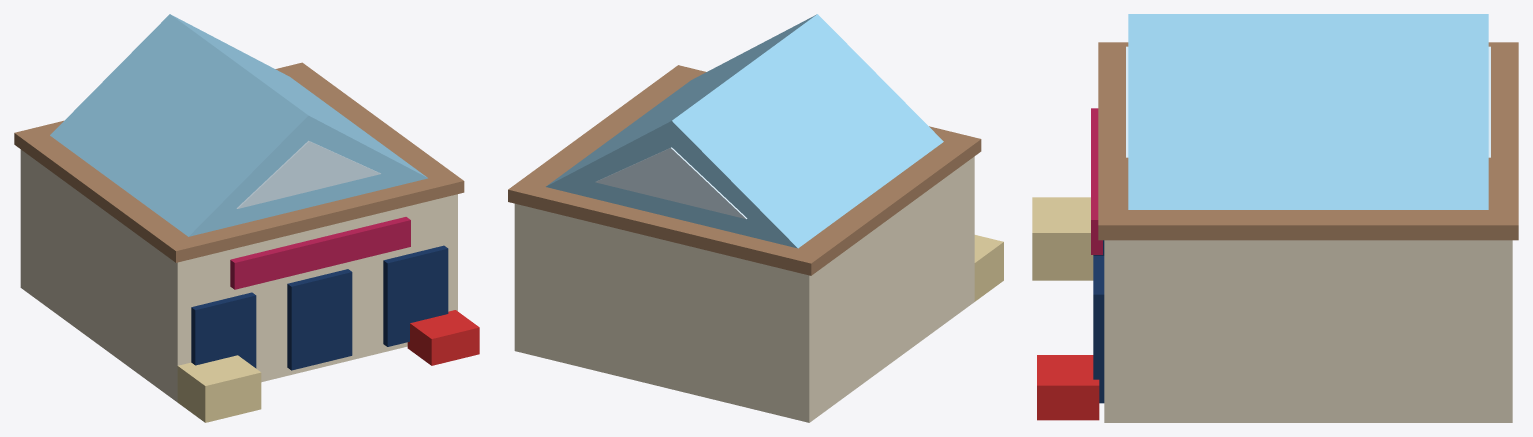
The model's file is market_1.glb.
3 views of the same model, side by side, from view 1: azimuth 30°, elevation 25°; view 2: azimuth 150°, elevation 25°; view 3: azimuth 270°, elevation 25° (orthographic). The views are drawn at different scales.
Visible parts, largest first — view 1: vidro_claro, reboco.002, madeira_clara, azul_marinho.002, rosa, bege_mercado.001, vidro_gelo.001, vermelho.001; view 2: reboco.002, vidro_claro, madeira_clara, vidro_gelo.001, bege_mercado.001; view 3: reboco.002, vidro_claro, madeira_clara, bege_mercado.001, vermelho.001, azul_marinho.002, rosa, vidro_gelo.001.
Boxes of the visible parts, box(x1,y1,x2,y2) form: vidro_claro: box(50, 14, 427, 236); reboco.002: box(20, 149, 457, 402); madeira_clara: box(14, 62, 464, 262); azul_marinho.002: box(191, 245, 448, 370); rosa: box(230, 217, 410, 289); bege_mercado.001: box(177, 355, 261, 422); vidro_gelo.001: box(236, 140, 380, 208); vermelho.001: box(407, 310, 479, 365); reboco.002: box(514, 156, 974, 422); vidro_claro: box(546, 14, 943, 248); madeira_clara: box(508, 65, 981, 275); vidro_gelo.001: box(595, 147, 747, 219); bege_mercado.001: box(974, 235, 1003, 301); reboco.002: box(1104, 240, 1512, 422); vidro_claro: box(1128, 14, 1488, 209); madeira_clara: box(1098, 42, 1518, 240); bege_mercado.001: box(1032, 197, 1093, 280); vermelho.001: box(1037, 355, 1099, 420); azul_marinho.002: box(1093, 240, 1104, 403); rosa: box(1091, 108, 1102, 254); vidro_gelo.001: box(1126, 46, 1490, 157).
Size of the model in its own units: 1.8 by 1.47 by 2.02.
